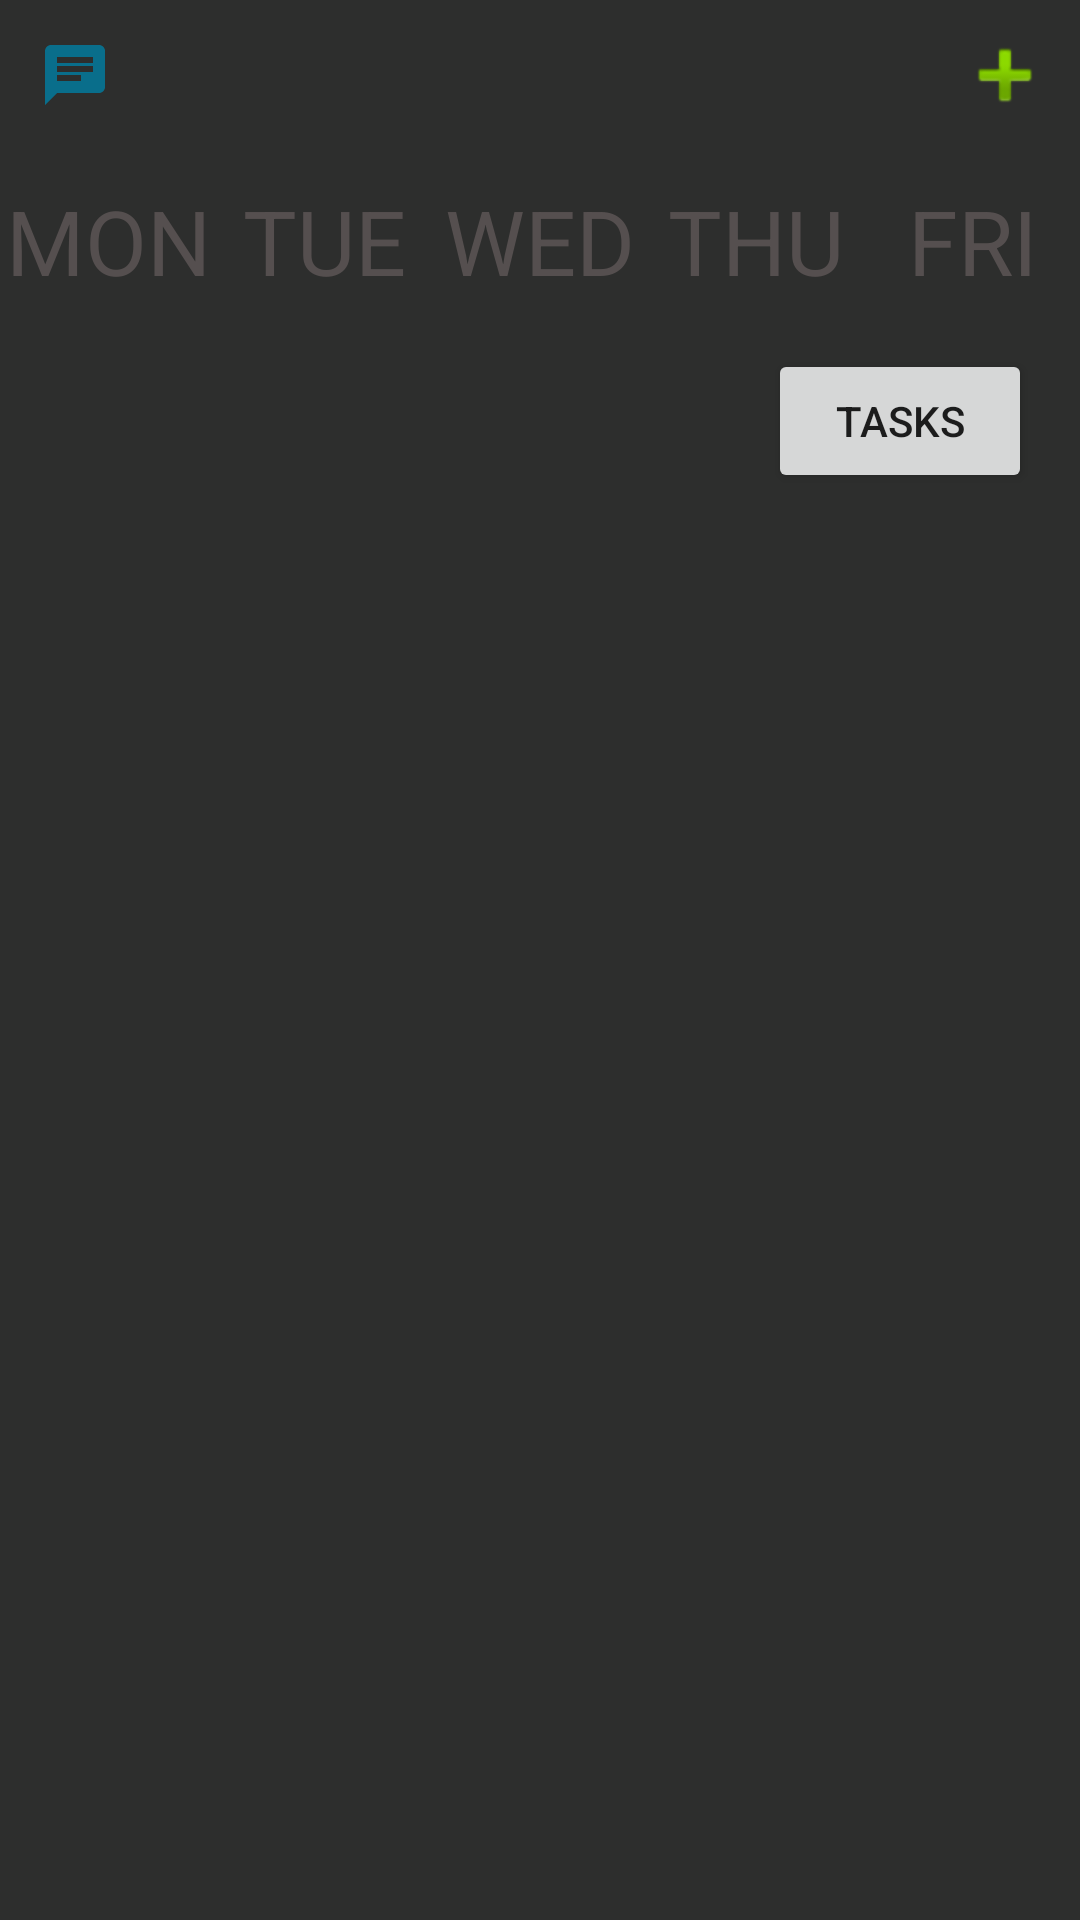

Screen size 1080 × 1920. Icon name, then its box in pixels as (x1, y1, x2, y2):
Group Chat: (45, 45, 105, 105)
